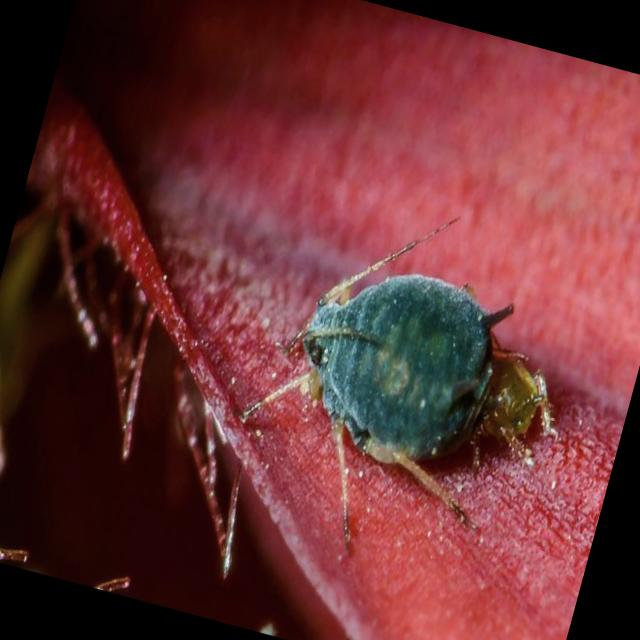Aphids: (247, 206, 529, 520)
